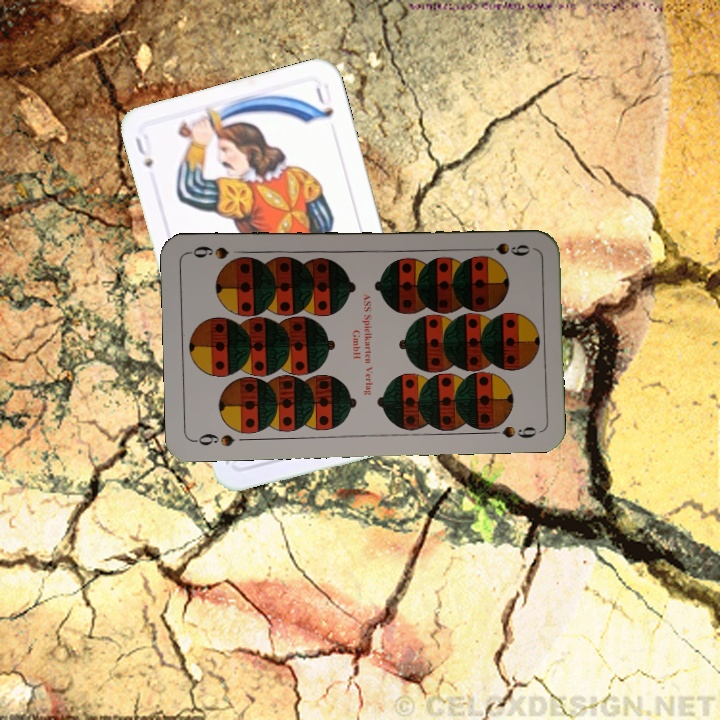S9: (475, 239, 532, 258), (190, 430, 237, 449)
SU: (131, 130, 156, 171)
